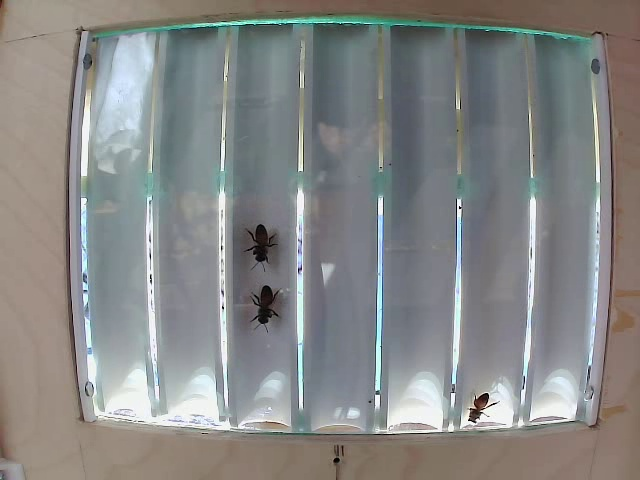bee: (247, 284, 280, 335), (248, 220, 282, 268)
